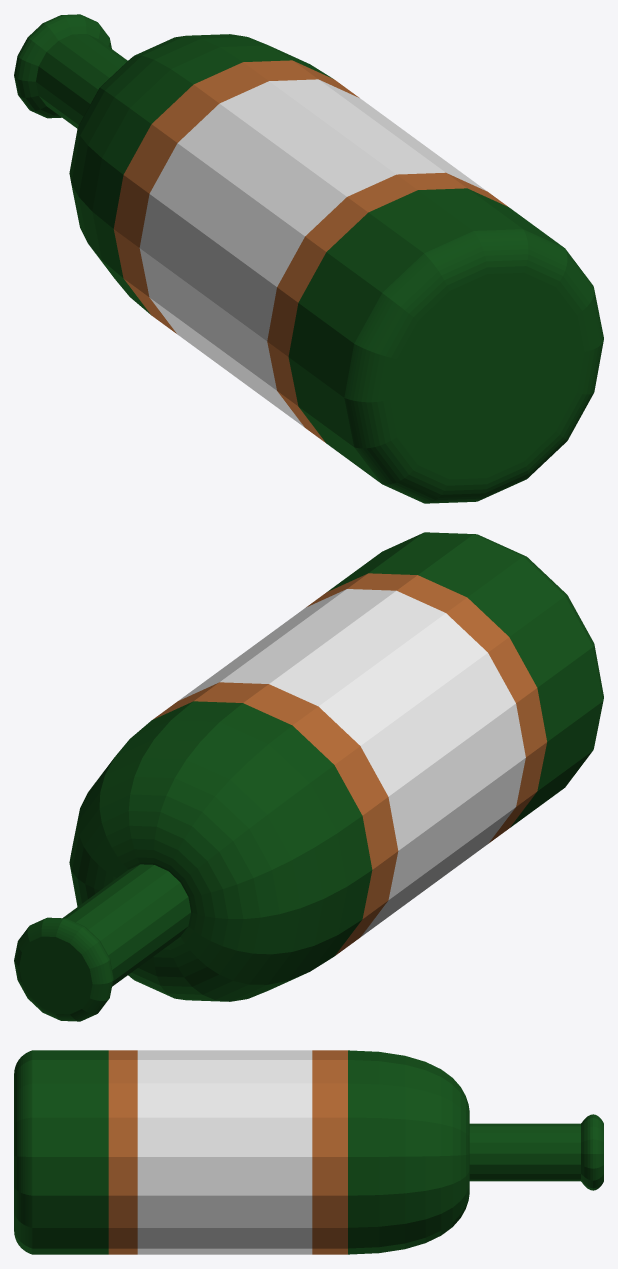
File: bottle.fbx
3 renders of one model, top to bottom at view 1: azimuth 30°, elevation 25°; view 2: azimuth 150°, elevation 25°; view 3: azimuth 270°, elevation 25°, orthographic. The views are drawn at different scales.
Parts seen in each view (by area): view 1: Curve; view 2: Curve; view 3: Curve.
Boxes of the visible parts, bbox=[...] form: Curve: bbox=[14, 14, 603, 503]; Curve: bbox=[14, 532, 603, 1021]; Curve: bbox=[14, 1050, 603, 1254].
Bounding box in the file's own units: 75.42 × 75.42 × 218.
